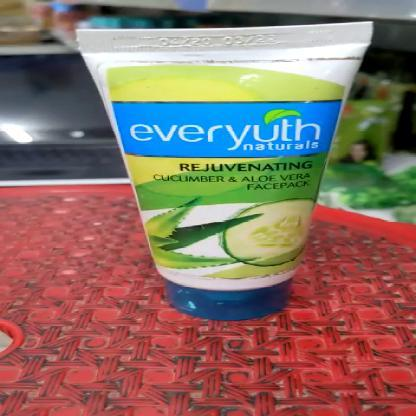EY RJ CUCUMBER ALOEVERA FACEPAK50G: (74, 28, 376, 316)
